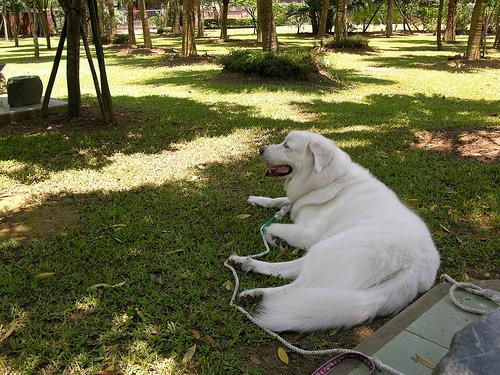Great_Pyrenees: (225, 128, 440, 333)
